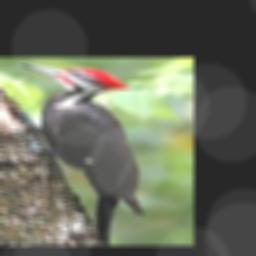Woodpecker: (19, 63, 143, 245)
